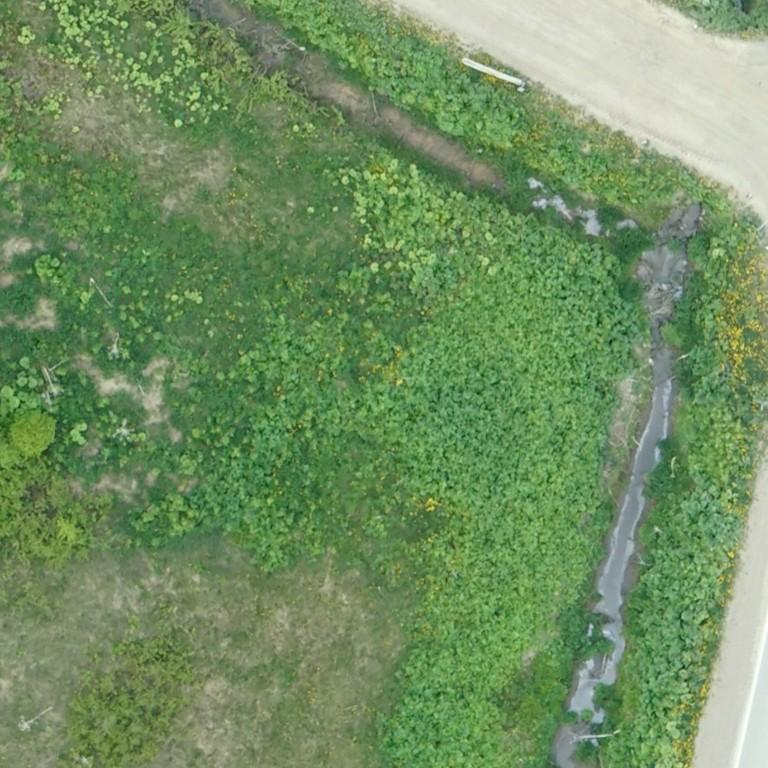hogweed: (189, 219, 639, 767), (604, 379, 738, 767), (252, 0, 526, 143)
